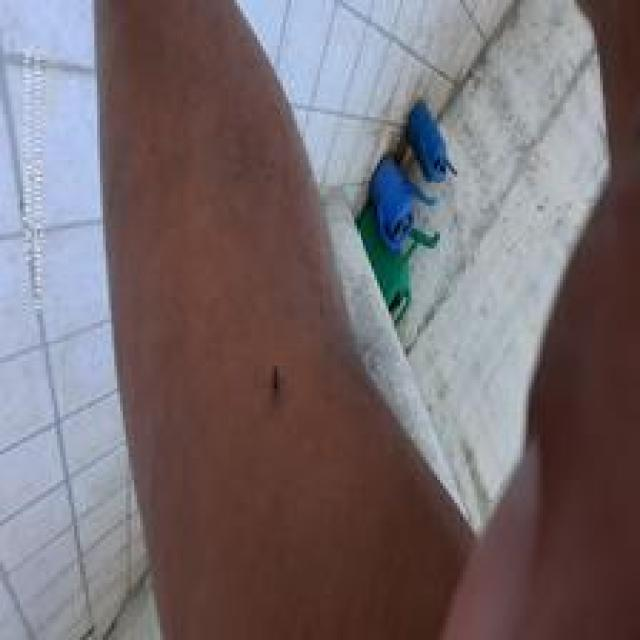Aedes albopictus: (351, 96, 460, 324)
